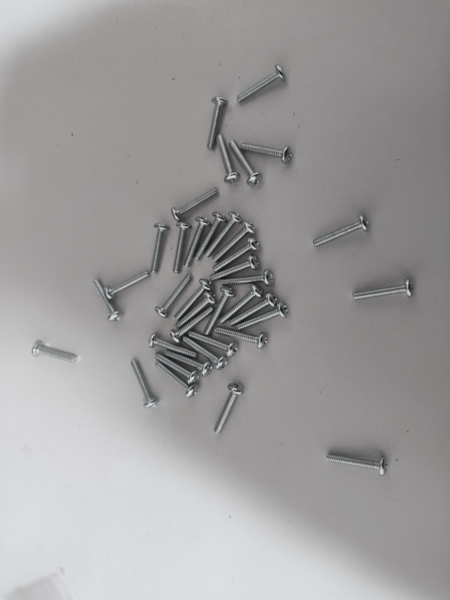longscrew: (238, 63, 285, 103), (241, 131, 297, 164), (351, 276, 413, 305), (311, 217, 373, 245), (172, 186, 220, 222), (211, 237, 262, 270), (220, 282, 262, 322), (229, 291, 278, 325), (236, 301, 292, 330), (206, 212, 240, 259), (232, 138, 264, 187), (152, 279, 191, 319), (215, 382, 243, 437), (158, 361, 198, 399), (204, 287, 235, 335), (181, 338, 229, 368), (127, 359, 156, 408), (325, 453, 392, 474), (213, 224, 251, 261), (172, 280, 210, 317), (182, 216, 209, 266), (204, 92, 227, 149), (212, 255, 264, 280), (170, 310, 212, 340), (175, 296, 217, 326), (197, 213, 223, 261), (189, 332, 240, 356), (155, 355, 199, 382), (93, 281, 119, 322), (147, 221, 167, 274), (169, 221, 189, 274), (149, 337, 197, 359), (108, 272, 148, 298), (220, 268, 280, 285), (214, 330, 270, 347), (167, 352, 211, 373), (220, 135, 237, 187), (30, 346, 80, 360)
